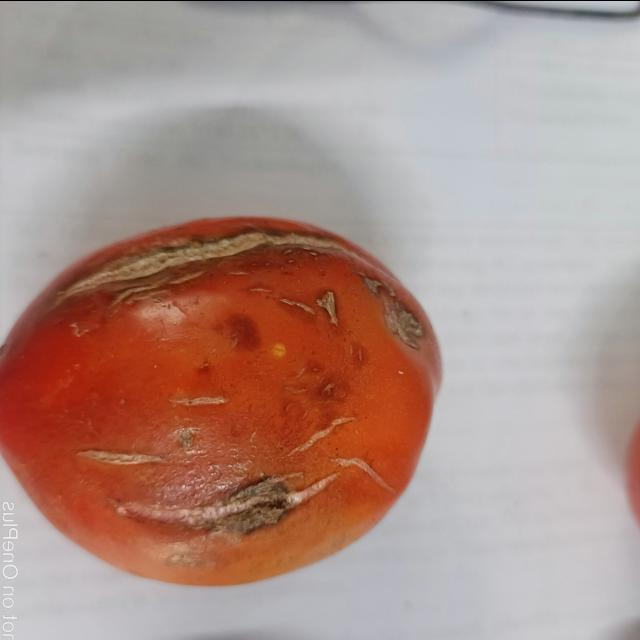tomato_cracking: (64, 222, 449, 343), (104, 437, 376, 558)
